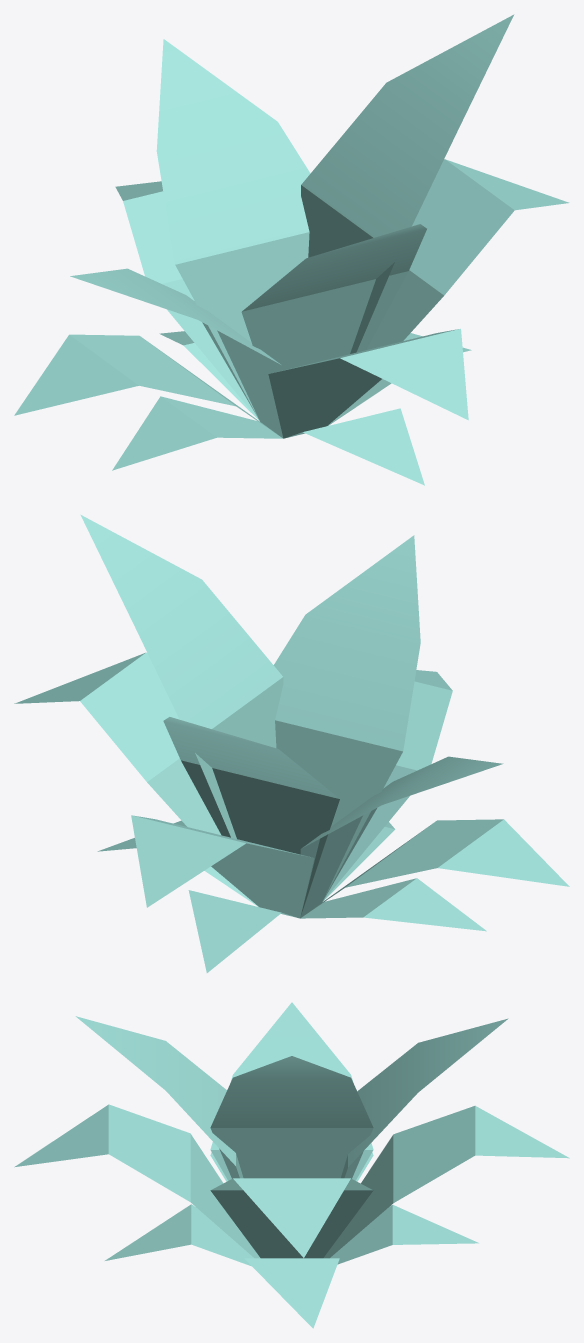
The model's file is plant_bushDetailed.glb.
The picture shows the model from 3 angles, top to bottom: view 1: azimuth 30°, elevation 25°; view 2: azimuth 150°, elevation 25°; view 3: azimuth 270°, elevation 25°; orthographic projection. The views are drawn at different scales.
Visible parts, largest first — view 1: plant_bushDetailed; view 2: plant_bushDetailed; view 3: plant_bushDetailed.
Boxes of the visible parts, <box> form: plant_bushDetailed: <box>14,14,569,485</box>; plant_bushDetailed: <box>14,514,569,972</box>; plant_bushDetailed: <box>14,1002,569,1328</box>.
Size of the model in its own units: 0.6025 by 0.3604 by 0.6025.
